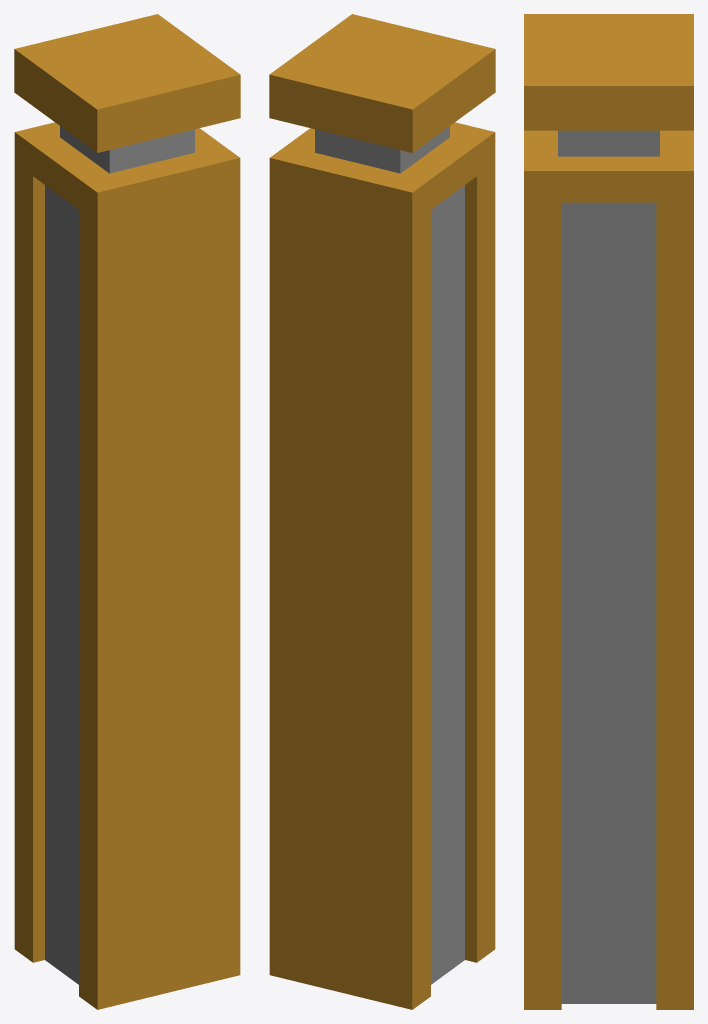
File: Pole_02.FBX
The picture shows the model from 3 angles, left to right: view 1: azimuth 30°, elevation 25°; view 2: azimuth 150°, elevation 25°; view 3: azimuth 270°, elevation 25°; orthographic projection. The views are drawn at different scales.
Visible parts, largest first — view 1: Pole_02_LOD0; view 2: Pole_02_LOD0; view 3: Pole_02_LOD0.
Boxes of the visible parts, x1=… form: Pole_02_LOD0: x1=14, y1=14, x2=240, y2=1009; Pole_02_LOD0: x1=269, y1=14, x2=495, y2=1009; Pole_02_LOD0: x1=524, y1=14, x2=693, y2=1009.
Size of what is drawn, in the model's own units: 10 by 60 by 10.
